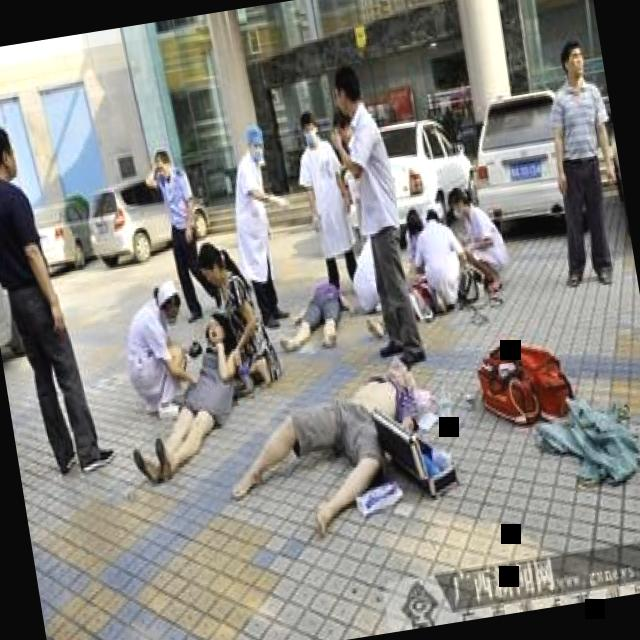Fall-Detected: (264, 264, 358, 362)
